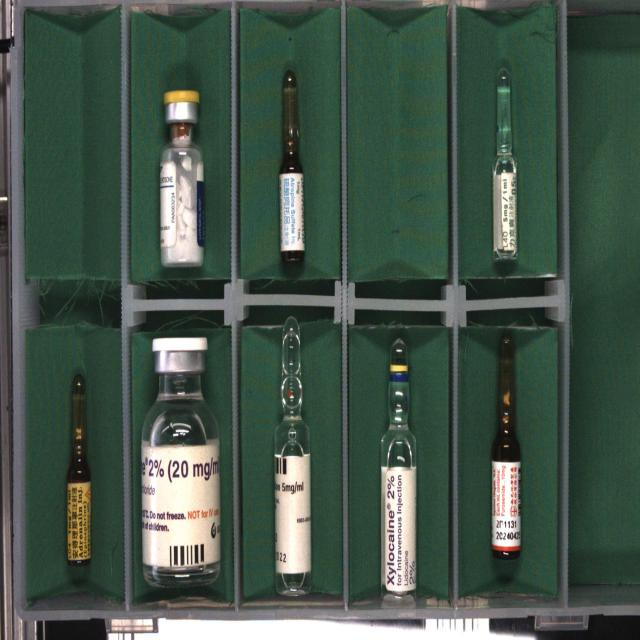Vials: (141, 337, 220, 587), (160, 90, 204, 267)
